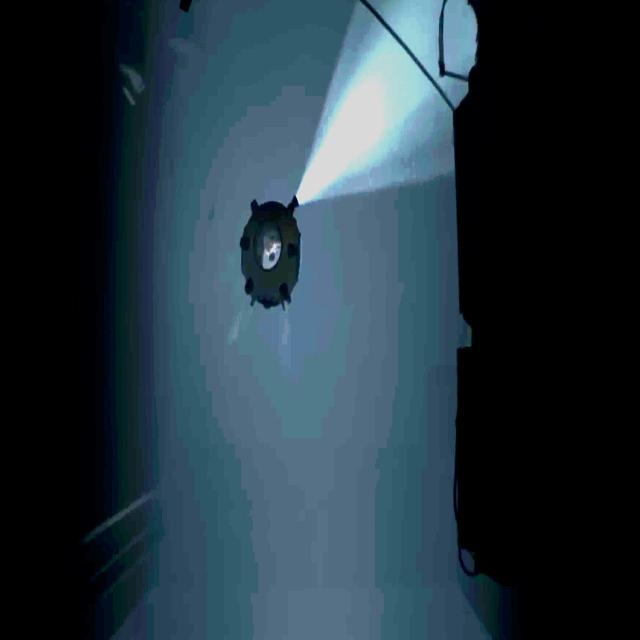boy: (264, 232, 278, 262)
submarine: (240, 194, 302, 312)
